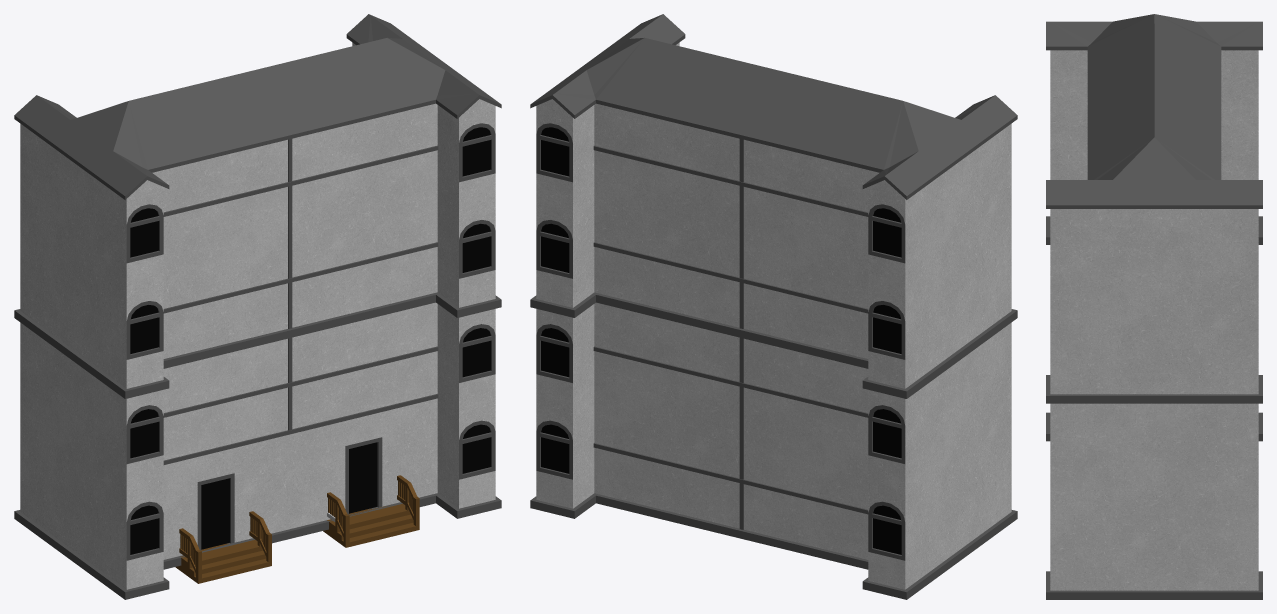
The model's file is WideBuilding.fbx.
3 views of the same model, side by side, from view 1: azimuth 30°, elevation 25°; view 2: azimuth 150°, elevation 25°; view 3: azimuth 270°, elevation 25° (orthographic). The views are drawn at different scales.
Parts seen in each view (by area): view 1: WideBuilding; view 2: WideBuilding; view 3: WideBuilding.
Part boxes in pixels (left/top/right/bottom): WideBuilding: left=14, top=14, right=501, bottom=599; WideBuilding: left=530, top=14, right=1017, bottom=599; WideBuilding: left=1046, top=14, right=1262, bottom=599.
Size of the model in its own units: 10.2 by 11.66 by 5.2.
